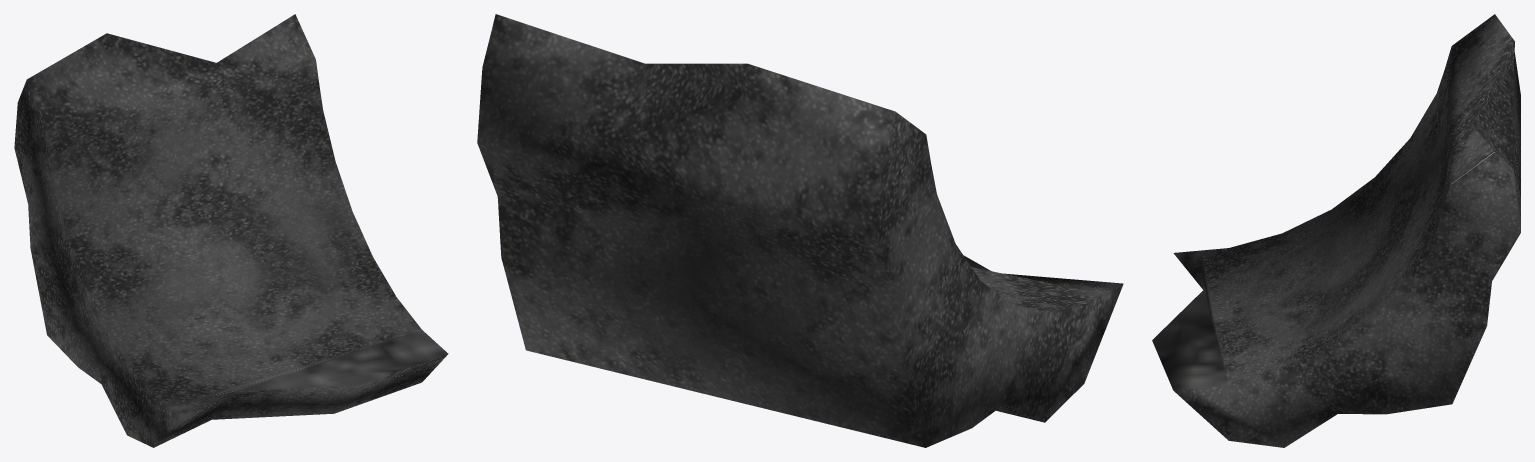
File: quartercircle.fbx
3 views of the same model, side by side, from view 1: azimuth 30°, elevation 25°; view 2: azimuth 150°, elevation 25°; view 3: azimuth 270°, elevation 25° (orthographic). The views are drawn at different scales.
Parts seen in each view (by area): view 1: Circle; view 2: Circle; view 3: Circle.
Boxes of the visible parts, x1,y1,x2,y2 form: Circle: (14, 14, 448, 447); Circle: (477, 14, 1123, 447); Circle: (1152, 14, 1520, 447).
Bounding box in the file's own units: 1.14 × 1.22 × 1.29.
1 material, 1 textured.
